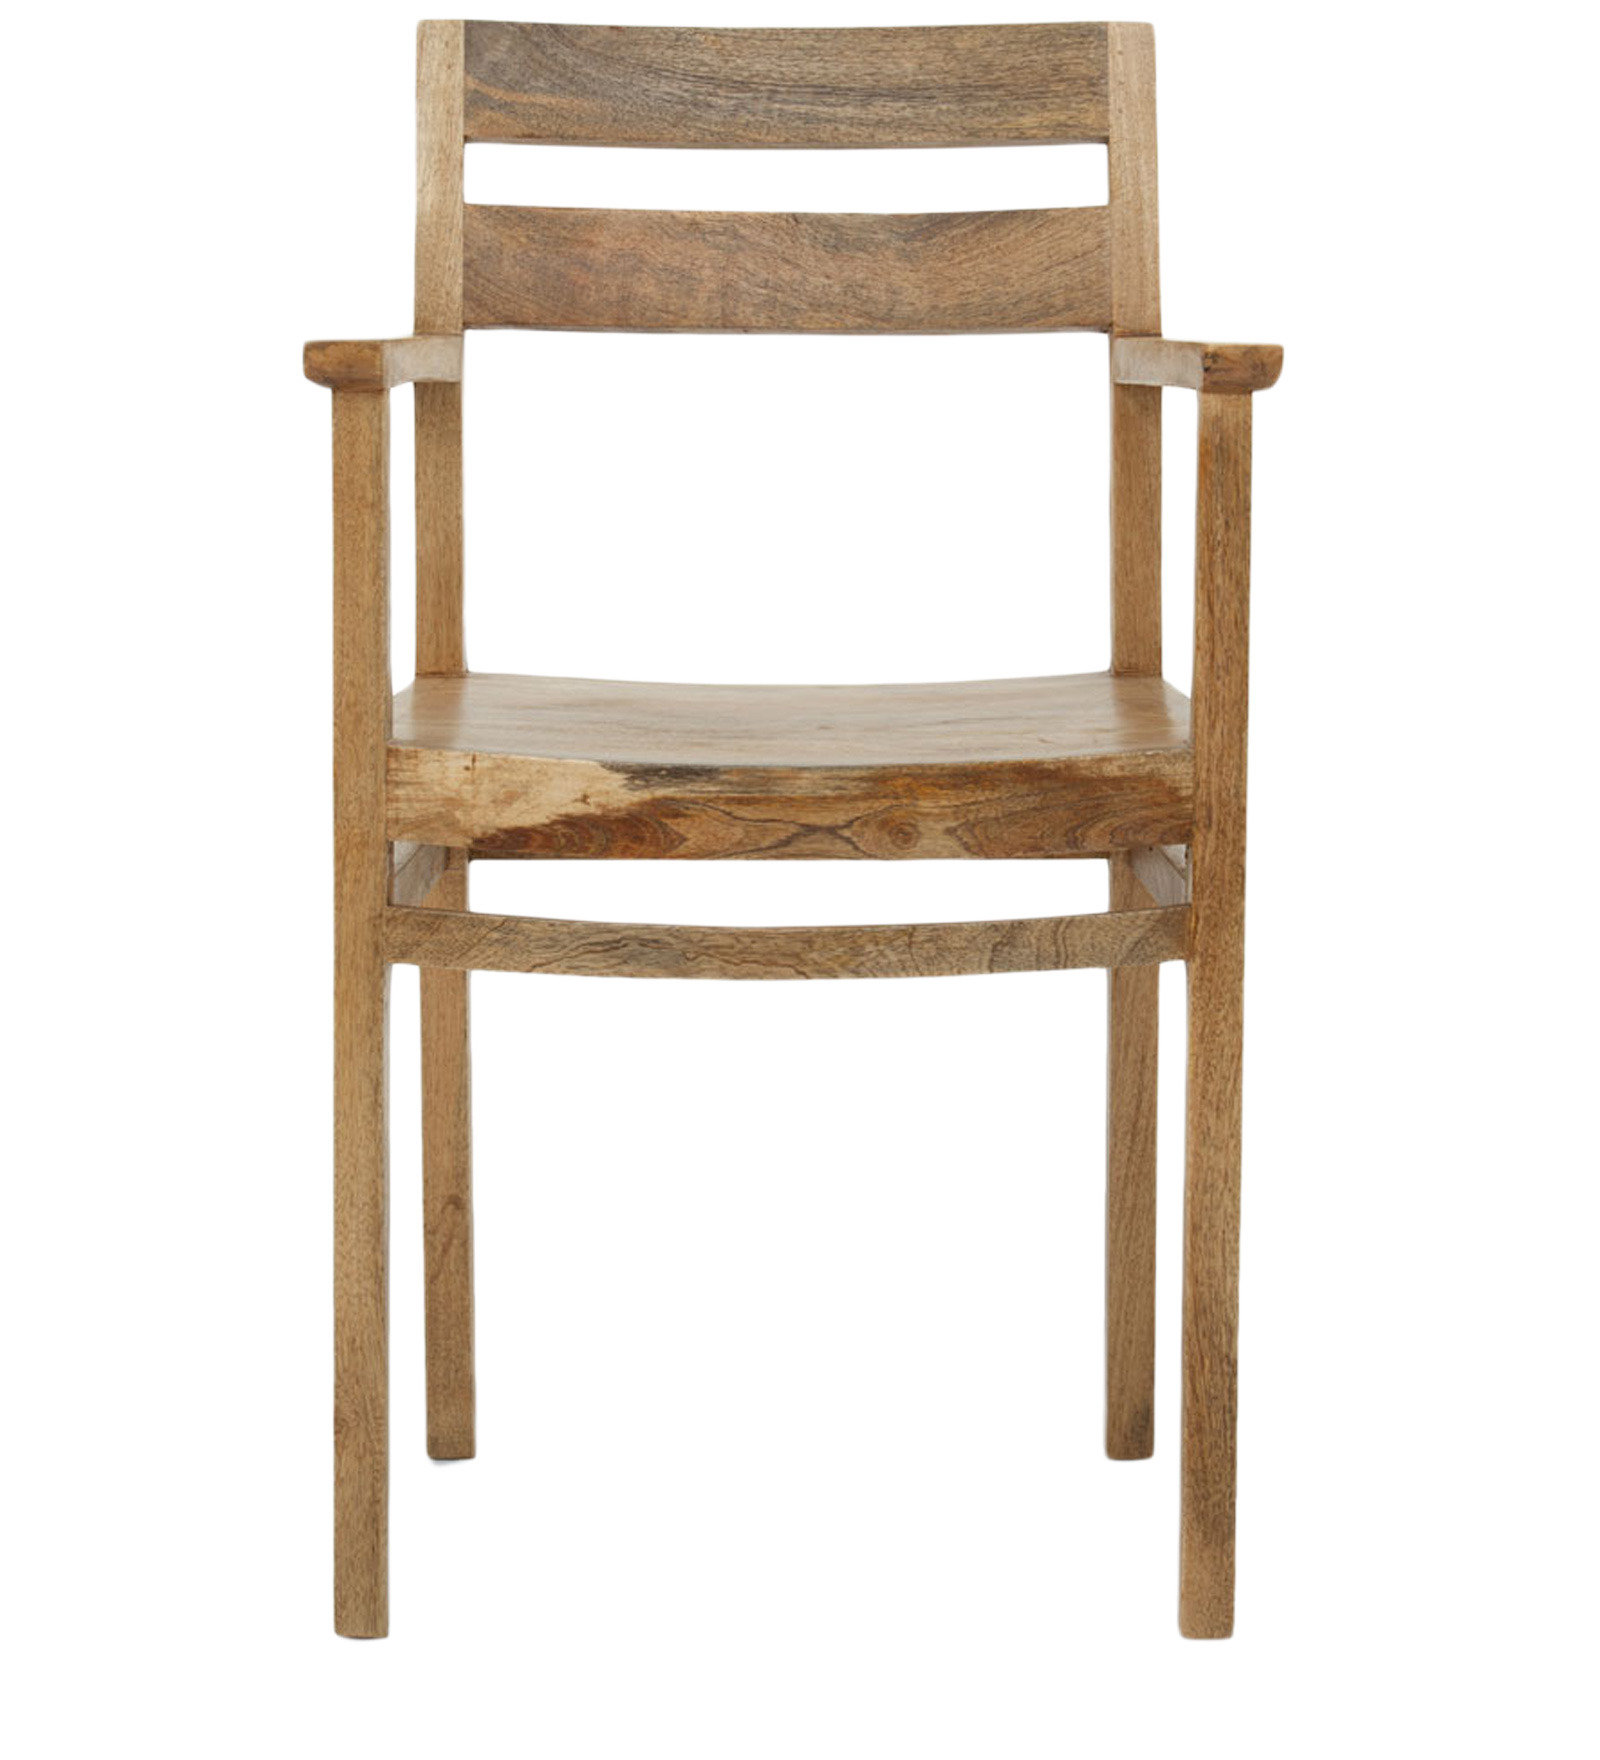Barcelona Solid Wood Arm Chair in Natural Finish by TheArmchair: (261, 12, 1313, 1693)
